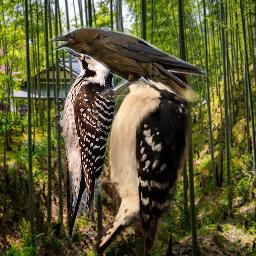Crow: (48, 24, 210, 102)
Woodpecker: (72, 49, 192, 254), (53, 41, 119, 245)
